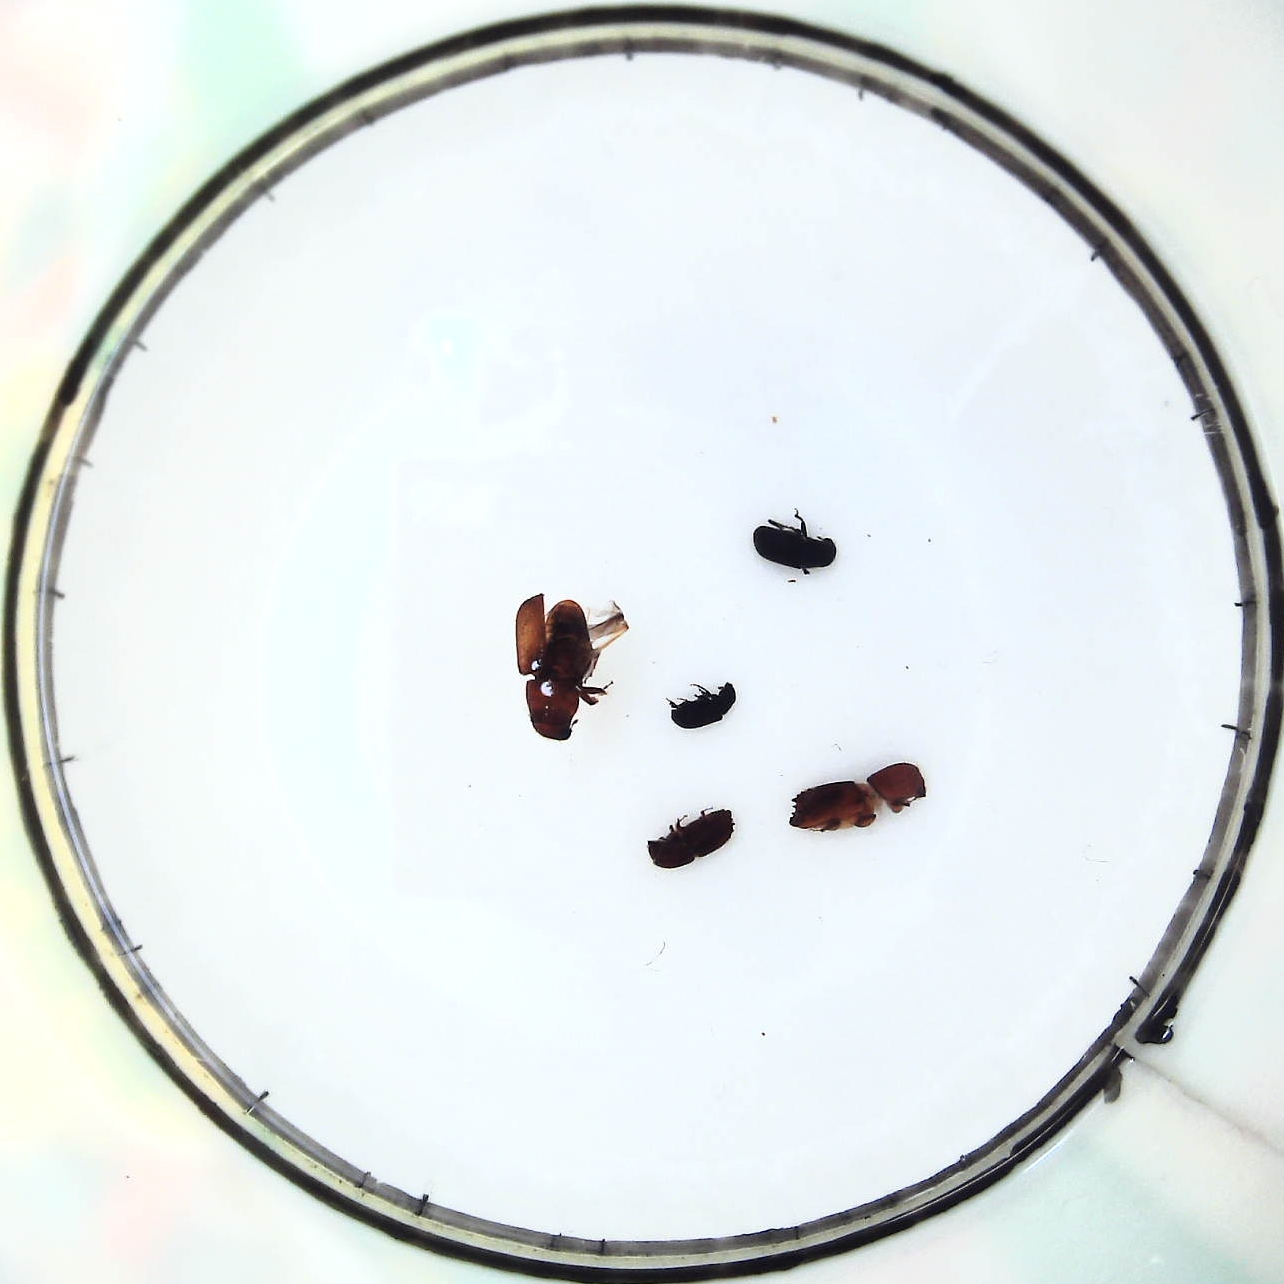Boerner: (785, 754, 927, 840)
Leconte: (515, 591, 626, 740)
Linnaeus: (649, 810, 733, 869)
armandi: (751, 513, 840, 581)
coleoptera: (673, 681, 742, 733)
